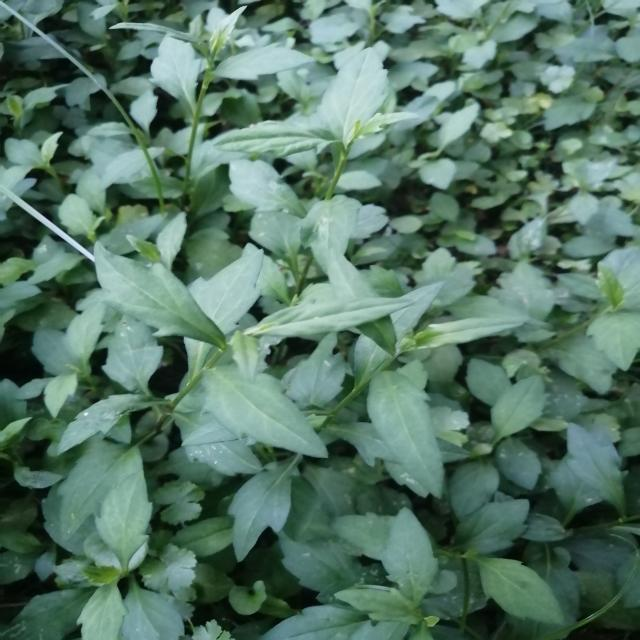Indian aster: (40, 12, 460, 244), (49, 231, 382, 474)
